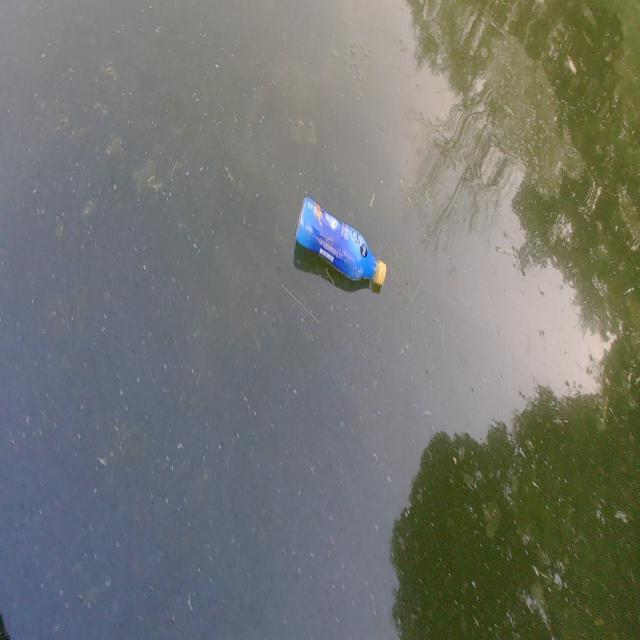garbage: (292, 195, 386, 294)
